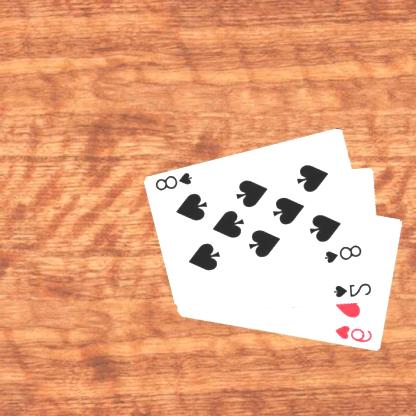2S: (332, 281, 375, 299)
6H: (334, 322, 376, 344)
8S: (323, 242, 365, 265), (154, 170, 196, 192)
